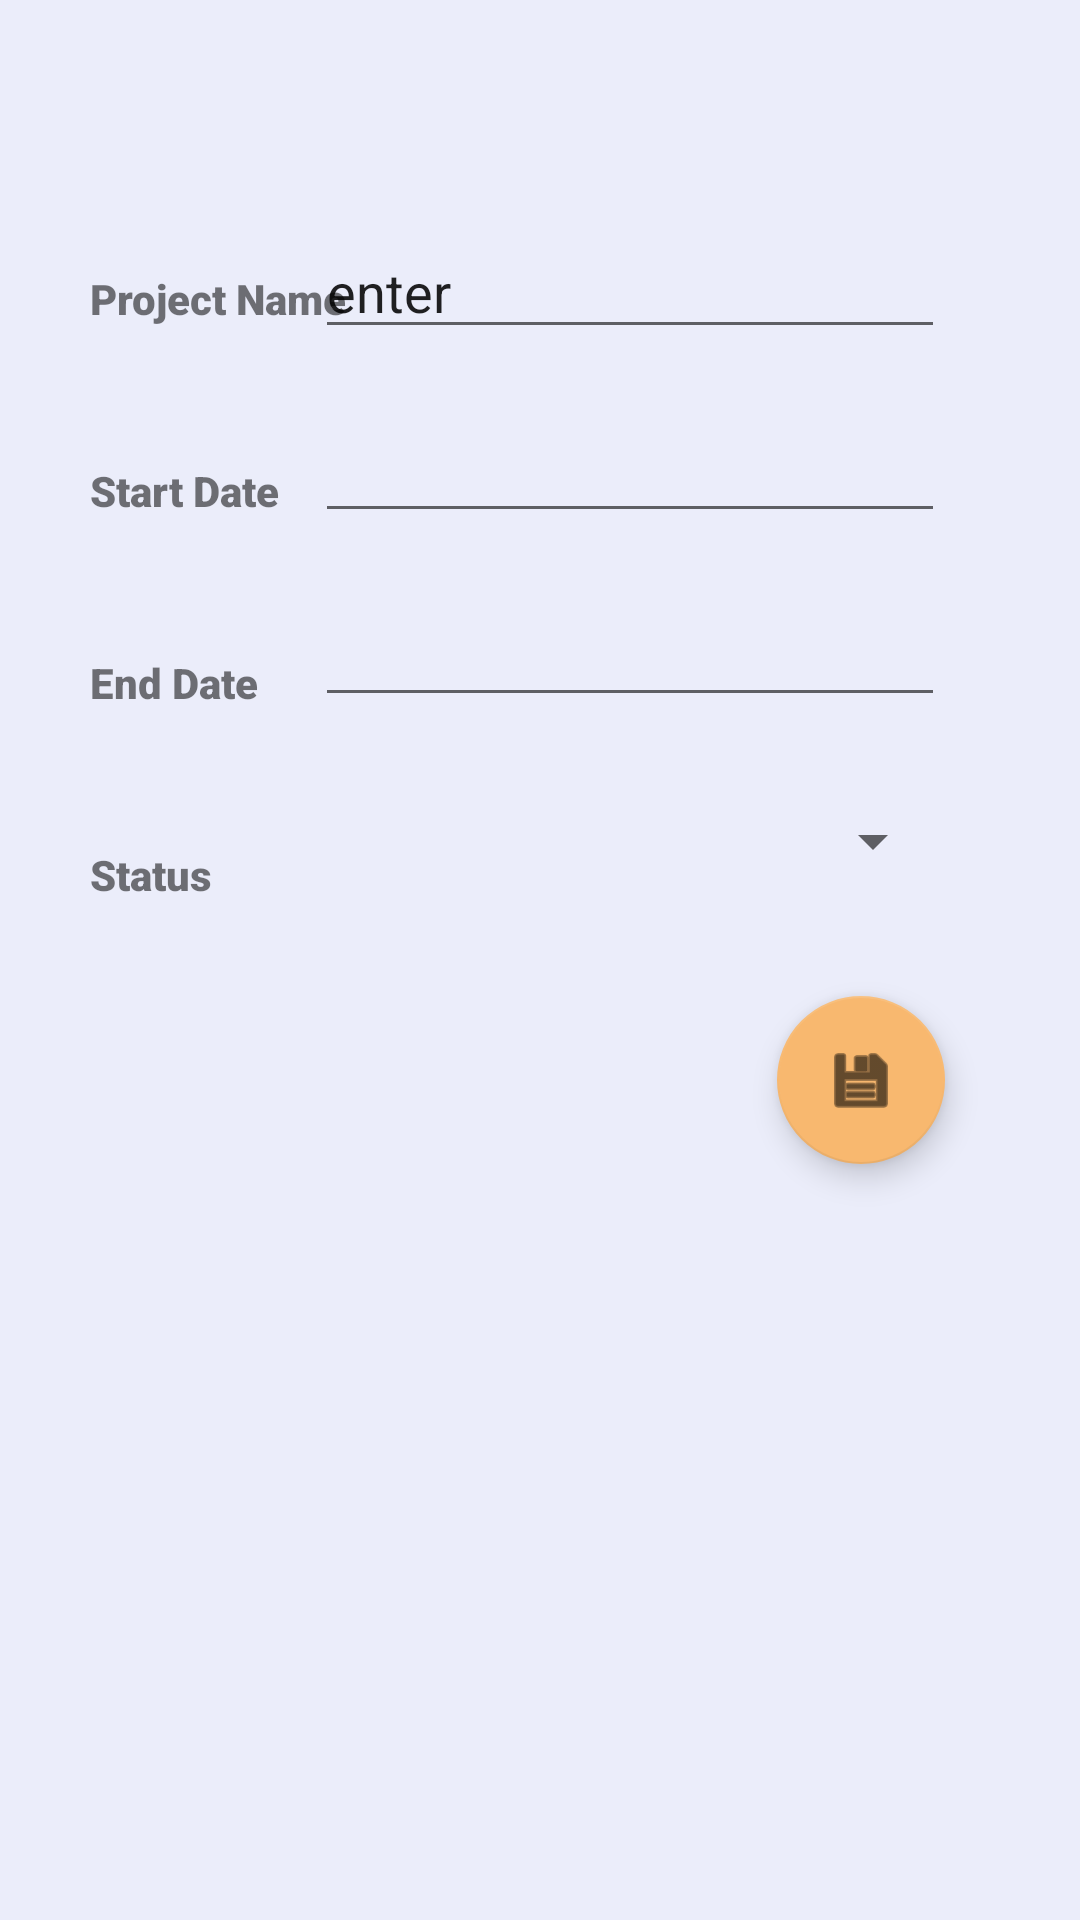

Screen size 1080w x 1920h. Icon name, then its box in pixels as (x1, y1, x2, y2):
save: (777, 996, 945, 1164)
